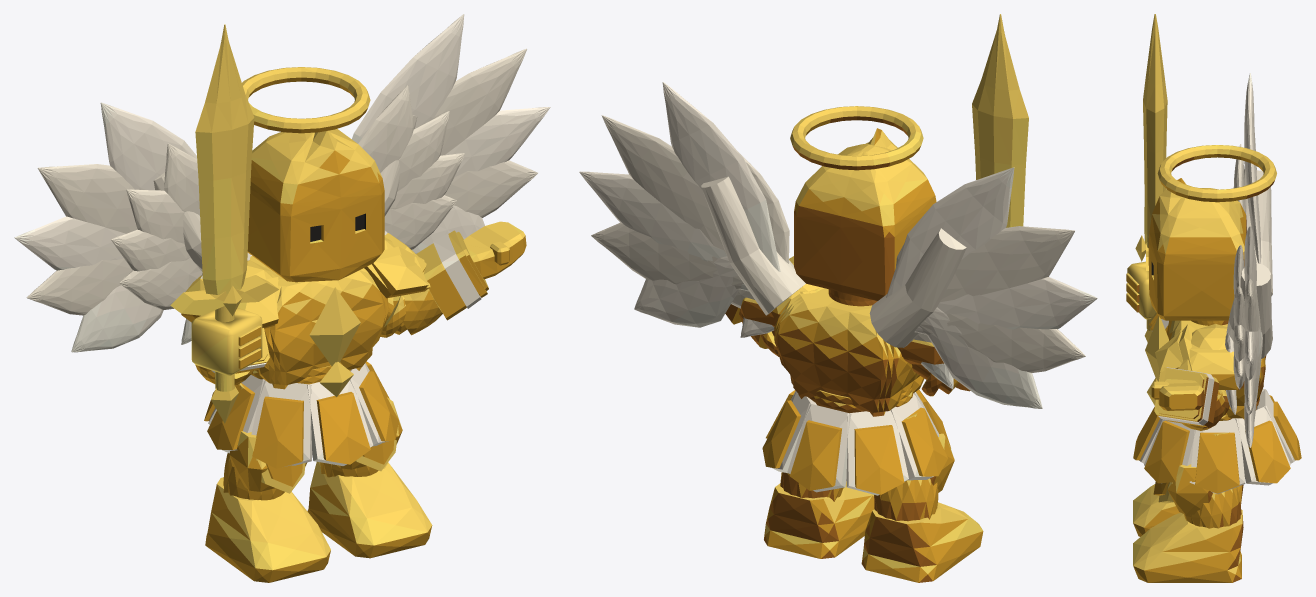
File: dawnspire.glb
3 views of the same model, side by side, from view 1: azimuth 30°, elevation 25°; view 2: azimuth 150°, elevation 25°; view 3: azimuth 270°, elevation 25° (orthographic). The views are drawn at different scales.
Visible parts, largest first — view 1: Headwear — V6 broad angular visor with compact source facete, Weapon — source tall wide eight-plane diamond sword blade, Foot — right segmented planted angular armor boot, Armor — continuous shaped faceted cuirass, Foot — left segmented planted angular armor boot, Wing — left broad curved white primary 1, Wing — right broad curved white primary 2, Wing — right broad curved white primary 1, Wing — left broad curved white primary 2, VFX — one horizontal source halo, Wing — right broad curved white primary 3, Wing — right broad curved white primary 5 (+33 smaller); view 2: Headwear — V6 broad angular visor with compact source facete, Armor — continuous shaped faceted cuirass, Weapon — source tall wide eight-plane diamond sword blade, Foot — right segmented planted angular armor boot, Wing — left broad curved white primary 1, Wing — right broad curved white primary 1, Foot — left segmented planted angular armor boot, Wing — right broad curved white primary 2, Wing — left broad curved white primary 2, Wing — left buried connected shoulder and raised ulna, Wing — right broad curved white primary 3, Wing — right buried connected shoulder and raised ulna (+19 smaller); view 3: Headwear — V6 broad angular visor with compact source facete, Foot — left segmented planted angular armor boot, Weapon — source tall wide eight-plane diamond sword blade, VFX — one horizontal source halo, Clothing — source gold main skirt field over white hem 7, Clothing — source gold main skirt field over white hem 6, Clothing — source gold main skirt field over white hem 8, Armor — left continuous full pauldron posterior return, Wing — right broad curved white primary 1, Leg — left faceted greave, Hand — left connected broad source outward blessing palm, Wing — left buried connected shoulder and raised ulna (+29 smaller).
Boxes of the visible parts, x1,y1,x2,y2 form: Headwear — V6 broad angular visor with compact source facete: (247, 129, 384, 282); Weapon — source tall wide eight-plane diamond sword blade: (195, 24, 254, 294); Foot — right segmented planted angular armor boot: (205, 477, 330, 582); Armor — continuous shaped faceted cuirass: (250, 256, 388, 385); Foot — left segmented planted angular armor boot: (307, 461, 432, 558); Wing — left broad curved white primary 1: (352, 14, 464, 143); Wing — right broad curved white primary 2: (37, 164, 137, 233); Wing — right broad curved white primary 1: (100, 102, 197, 190); Wing — left broad curved white primary 2: (434, 48, 526, 155); VFX — one horizontal source halo: (242, 67, 370, 133); Wing — right broad curved white primary 3: (14, 216, 125, 270); Wing — right broad curved white primary 5: (71, 285, 163, 352); Headwear — V6 broad angular visor with compact source facete: (794, 128, 936, 300); Armor — continuous shaped faceted cuirass: (774, 288, 924, 412); Weapon — source tall wide eight-plane diamond sword blade: (972, 14, 1028, 227); Foot — right segmented planted angular armor boot: (861, 502, 983, 582); Wing — left broad curved white primary 1: (662, 82, 780, 271); Wing — right broad curved white primary 1: (886, 167, 1014, 297); Foot — left segmented planted angular armor boot: (764, 481, 874, 558); Wing — right broad curved white primary 2: (914, 226, 1074, 332); Wing — left broad curved white primary 2: (601, 115, 725, 253); Wing — left buried connected shoulder and raised ulna: (701, 176, 805, 315); Wing — right broad curved white primary 3: (914, 277, 1097, 334); Wing — right buried connected shoulder and raised ulna: (869, 228, 966, 347); Headwear — V6 broad angular visor with compact source facete: (1148, 178, 1246, 320); Foot — left segmented planted angular armor boot: (1133, 510, 1243, 582); Weapon — source tall wide eight-plane diamond sword blade: (1143, 14, 1167, 247); VFX — one horizontal source halo: (1157, 145, 1276, 202); Clothing — source gold main skirt field over white hem 7: (1195, 432, 1239, 493); Clothing — source gold main skirt field over white hem 6: (1144, 420, 1189, 483); Clothing — source gold main skirt field over white hem 8: (1245, 420, 1290, 483); Armor — left continuous full pauldron posterior return: (1178, 327, 1244, 389); Wing — right broad curved white primary 1: (1244, 73, 1261, 263); Leg — left faceted greave: (1184, 487, 1241, 528); Hand — left connected broad source outward blessing palm: (1151, 379, 1203, 410); Wing — left buried connected shoulder and raised ulna: (1226, 263, 1272, 358).
Bounding box in the file's own units: 1.51 × 1.51 × 0.4963.
